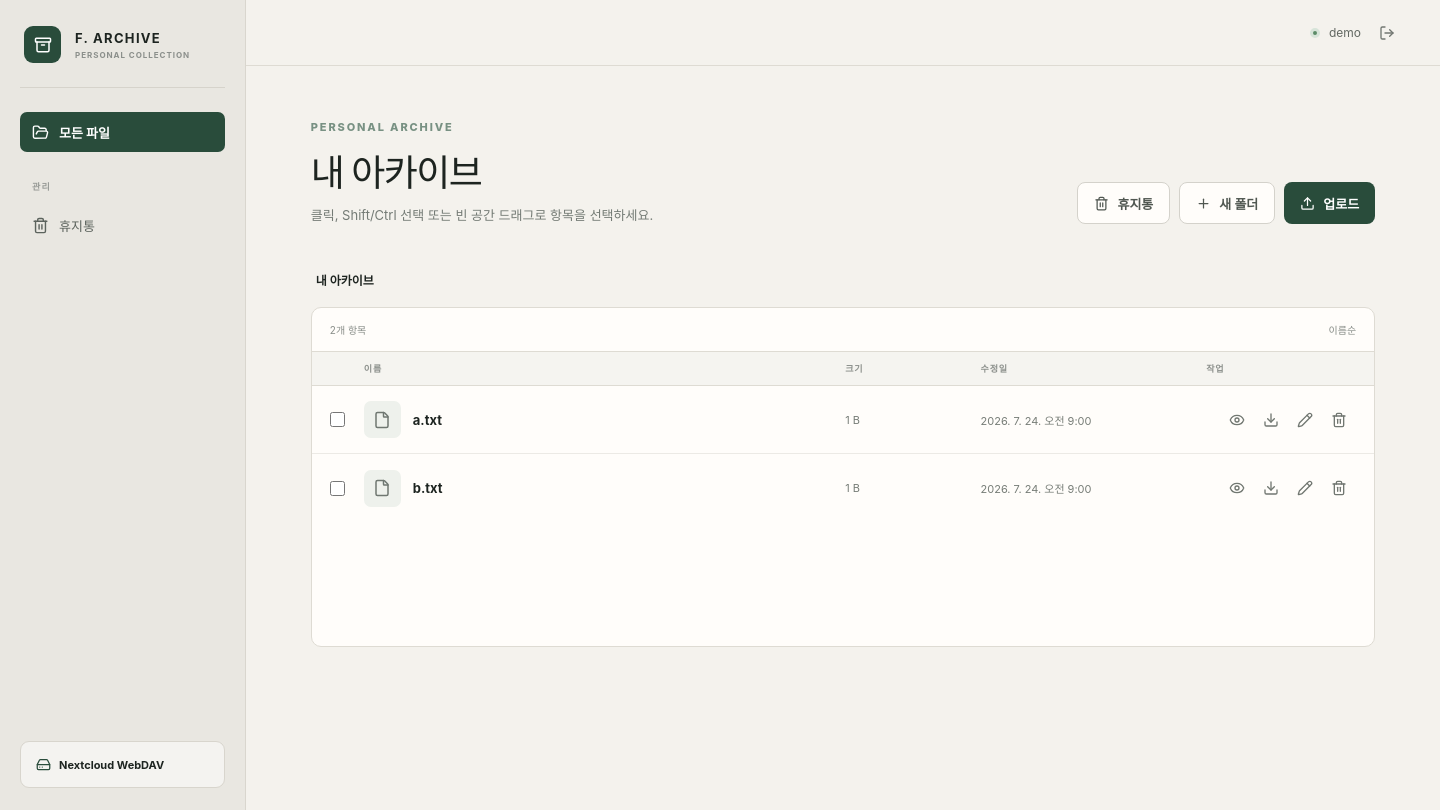
Scenario: archive explorer interactions › selects multiple rows with a drag-selection rectangle
Press the mouse on the element with test id "file-list" at (843, 446), box [312,386,1374,506]
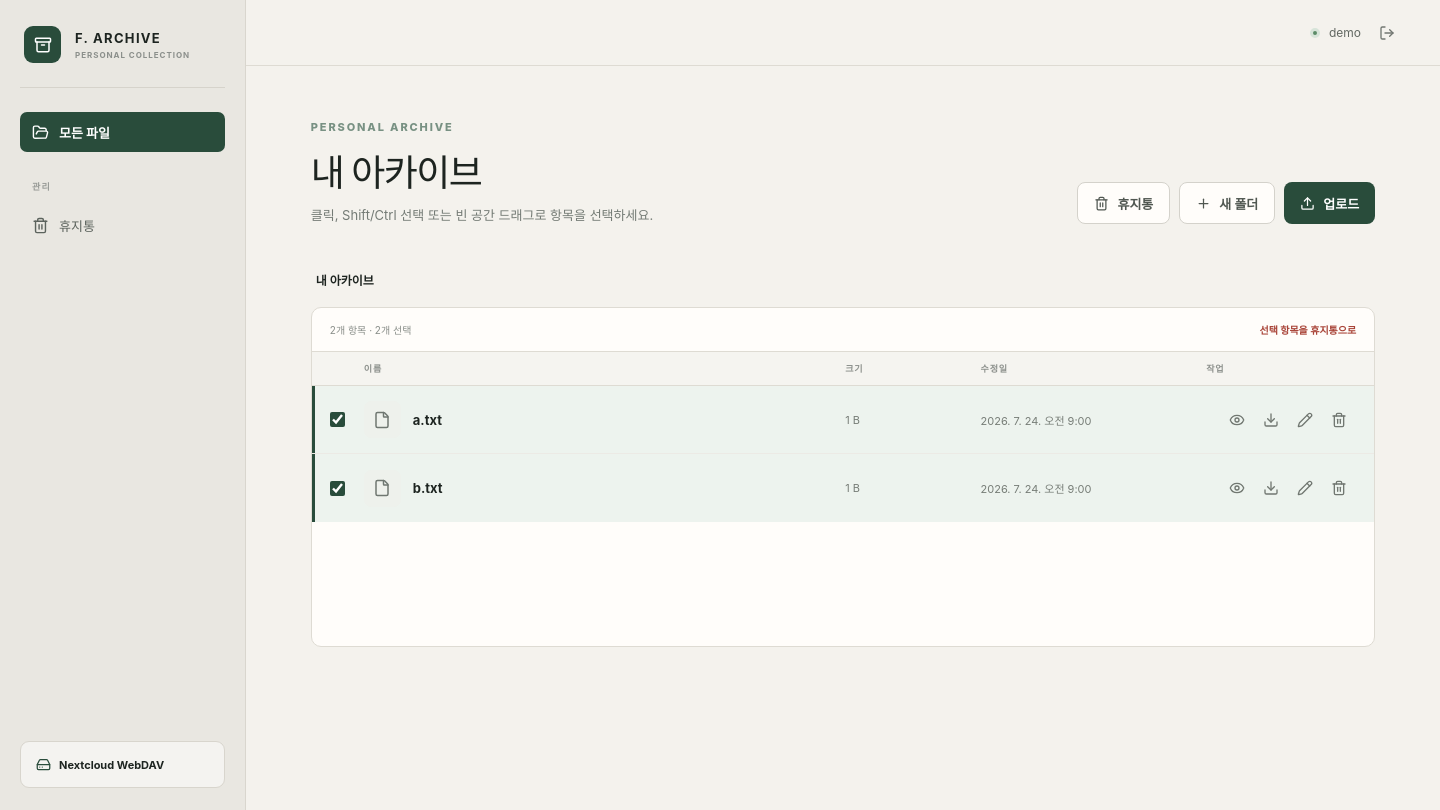
Expected: the checkbox named "a.txt 선택" is checked, [330,412,345,427]
Expected: the checkbox named "b.txt 선택" is checked, [330,480,345,496]
Expected: the text "2개 항목 · 2개 선택" is shown, [330,322,411,337]
